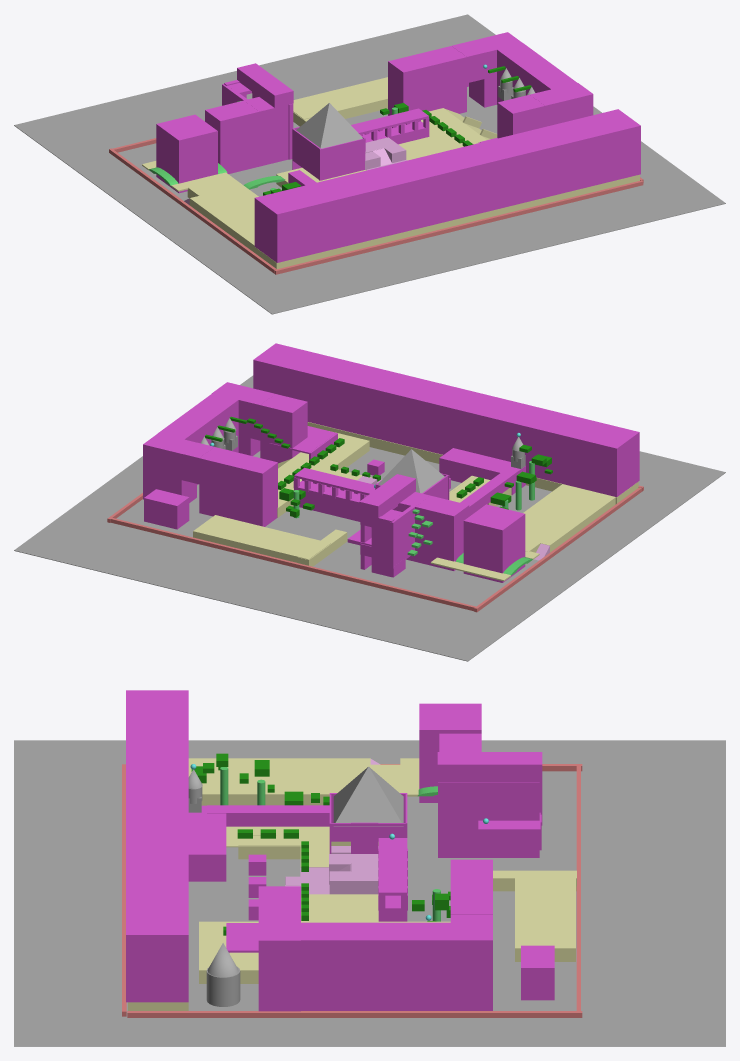
File: level_0107_2.fbx
3 views of the same model, one above another, from view 1: azimuth 30°, elevation 25°; view 2: azimuth 150°, elevation 25°; view 3: azimuth 270°, elevation 25° (orthographic). The views are drawn at different scales.
Visible parts, largest first — view 1: pCube1, pasted__pasted__pasted__pasted__polySurface67, pasted__pasted__pasted__pasted__pasted__polySurface12 (×4), pasted__pasted__pasted__pasted__polySurface12 (×2), pasted__pasted__pasted__pasted__pasted__polySurface39, pasted__pasted__pasted__pasted__pasted__polySurface37, pasted__pasted__pasted__polySurface36 (×2), pasted__pasted__polySurface12 (×3), pasted__pasted__pasted__polySurface39, pasted__pasted__polySurface36, pPyramid1, pasted__pasted__pasted__pasted__polySurface85 (+5 smaller); view 2: pCube1, pasted__pasted__pasted__pasted__polySurface67, pasted__pasted__pasted__pasted__pasted__polySurface12 (×4), pasted__pasted__pasted__pasted__polySurface12 (×3), pasted__pasted__pasted__pasted__pasted__polySurface37, pasted__pasted__pasted__polySurface39, pasted__pasted__pasted__pasted__pasted__polySurface39, pasted__pasted__pasted__polySurface36 (×2), pasted__pasted__polySurface36, pasted__pasted__pasted__pasted__polySurface66, pasted__pasted__pasted__pasted__polySurface85, pasted__pasted__polySurface12 (+11 smaller); view 3: pCube1, pasted__pasted__pasted__pasted__polySurface67, pasted__pasted__pasted__pasted__pasted__polySurface12 (×3), pasted__pasted__pasted__pasted__polySurface12 (×4), pasted__pasted__pasted__pasted__pasted__polySurface40, pasted__pasted__polySurface36 (×2), pasted__pasted__pasted__polySurface39, pasted__pasted__pasted__polySurface12 (×2), pasted__pasted__pasted__pasted__pasted__polySurface43, pasted__pasted__pasted__pasted__polySurface85, pPyramid1, pasted__pasted__pasted__pasted__polySurface37 (+16 smaller).
Part boxes in pixels (<box>): pCube1: <box>14,14,725,314</box>; pasted__pasted__pasted__pasted__polySurface67: <box>254,109,640,262</box>; pasted__pasted__pasted__pasted__pasted__polySurface12 (×4): <box>109,32,577,273</box>; pasted__pasted__pasted__pasted__polySurface12 (×2): <box>156,114,643,274</box>; pasted__pasted__pasted__pasted__pasted__polySurface39: <box>205,97,288,173</box>; pasted__pasted__pasted__pasted__pasted__polySurface37: <box>388,46,466,115</box>; pasted__pasted__pasted__polySurface36 (×2): <box>254,108,639,269</box>; pasted__pasted__polySurface12 (×3): <box>292,121,429,180</box>; pasted__pasted__pasted__polySurface39: <box>293,77,387,119</box>; pasted__pasted__polySurface36: <box>187,176,258,233</box>; pPyramid1: <box>296,103,362,148</box>; pasted__pasted__pasted__pasted__polySurface85: <box>237,63,293,107</box>; pCube1: <box>14,375,725,661</box>; pasted__pasted__pasted__pasted__polySurface67: <box>253,343,639,496</box>; pasted__pasted__pasted__pasted__pasted__polySurface12 (×4): <box>143,392,641,612</box>; pasted__pasted__pasted__pasted__polySurface12 (×3): <box>110,448,525,611</box>; pasted__pasted__pasted__pasted__pasted__polySurface37: <box>199,447,277,526</box>; pasted__pasted__pasted__polySurface39: <box>193,515,330,562</box>; pasted__pasted__pasted__pasted__pasted__polySurface39: <box>393,492,469,570</box>; pasted__pasted__pasted__polySurface36 (×2): <box>277,422,638,517</box>; pasted__pasted__polySurface36: <box>523,484,605,552</box>; pasted__pasted__pasted__pasted__polySurface66: <box>144,489,189,529</box>; pasted__pasted__pasted__pasted__polySurface85: <box>359,474,415,518</box>; pasted__pasted__polySurface12: <box>294,480,367,521</box>; pCube1: <box>14,740,725,1046</box>; pasted__pasted__pasted__pasted__polySurface67: <box>126,690,188,1002</box>; pasted__pasted__pasted__pasted__pasted__polySurface12 (×3): <box>258,886,492,1010</box>; pasted__pasted__pasted__pasted__polySurface12 (×4): <box>122,703,580,1016</box>; pasted__pasted__pasted__pasted__pasted__polySurface40: <box>438,782,539,857</box>; pasted__pasted__polySurface36 (×2): <box>188,764,402,983</box>; pasted__pasted__pasted__polySurface39: <box>515,870,575,961</box>; pasted__pasted__pasted__polySurface12 (×2): <box>127,838,582,1017</box>; pasted__pasted__pasted__pasted__pasted__polySurface43: <box>258,914,300,1011</box>; pasted__pasted__pasted__pasted__polySurface85: <box>437,752,542,781</box>; pPyramid1: <box>333,766,403,826</box>; pasted__pasted__pasted__pasted__polySurface37: <box>207,805,329,826</box>.
Size of the model in its own units: 116 by 18.81 by 114.
